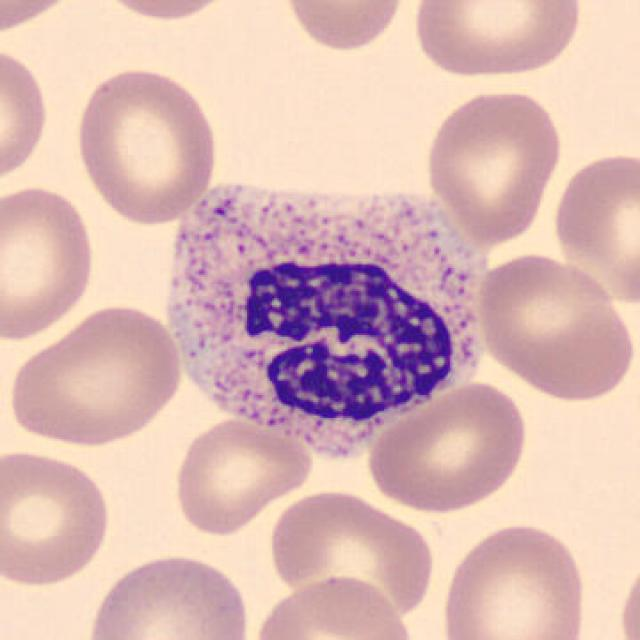Neutrophil: (158, 171, 498, 481)
RBC: (3, 300, 186, 450), (471, 249, 635, 402), (263, 485, 437, 628), (71, 64, 222, 228), (362, 377, 532, 515), (420, 85, 566, 245), (437, 518, 592, 640), (169, 414, 316, 538), (0, 444, 116, 591), (0, 180, 98, 345), (82, 548, 256, 640), (547, 144, 640, 310), (407, 0, 590, 83), (250, 573, 418, 640), (0, 41, 52, 190), (277, 0, 411, 55), (89, 0, 243, 25), (0, 0, 80, 39), (615, 546, 640, 640)
